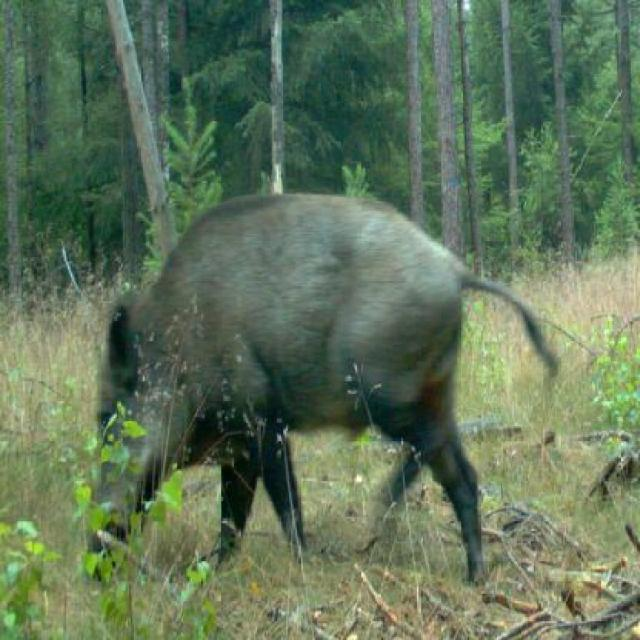Boar: (68, 194, 528, 580)
